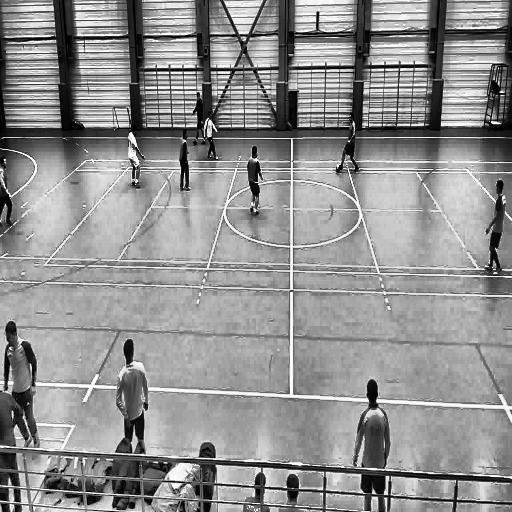ball: (334, 163, 342, 174)
player: (2, 320, 42, 452), (352, 377, 390, 512), (114, 334, 150, 451), (484, 177, 506, 278), (246, 144, 265, 220), (338, 110, 360, 174), (0, 152, 17, 232), (126, 123, 146, 191), (178, 126, 192, 194), (190, 89, 205, 146), (203, 112, 220, 162)
